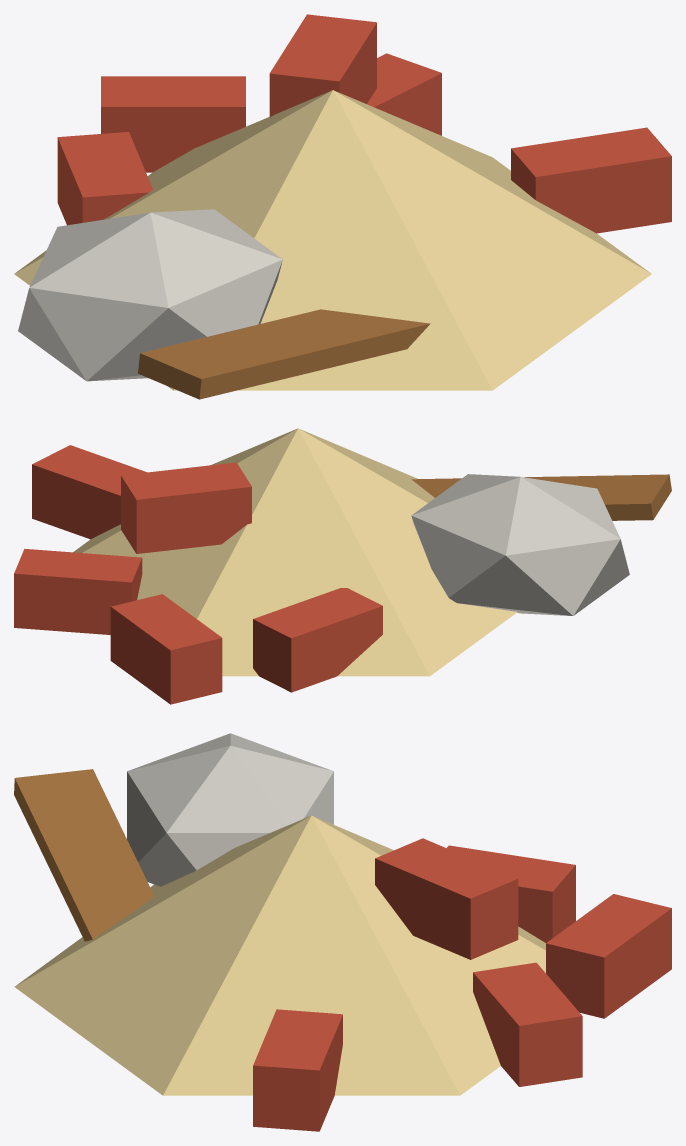
The model's file is entulho.glb.
3 renders of one model, top to bottom at view 1: azimuth 30°, elevation 25°; view 2: azimuth 150°, elevation 25°; view 3: azimuth 270°, elevation 25°, orthographic. The views are drawn at different scales.
Parts seen in each view (by area): view 1: corpo; view 2: corpo; view 3: corpo.
Boxes of the visible parts, box(x1,y1,x2,y2) form: corpo: box(14, 14, 671, 399); corpo: box(14, 428, 671, 704); corpo: box(14, 733, 671, 1131).
Size of the model in its own units: 0.5302 by 0.153 by 0.4869.
